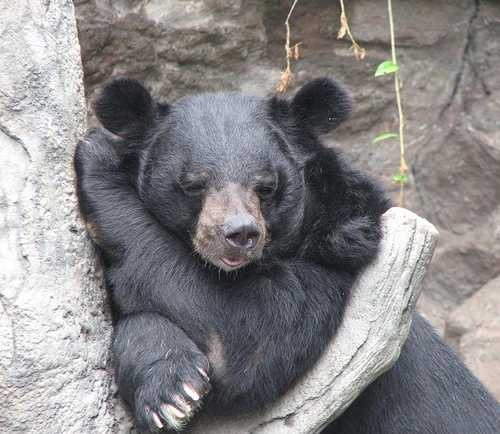bear: (165, 151, 293, 279), (82, 63, 210, 191), (251, 57, 379, 185)
